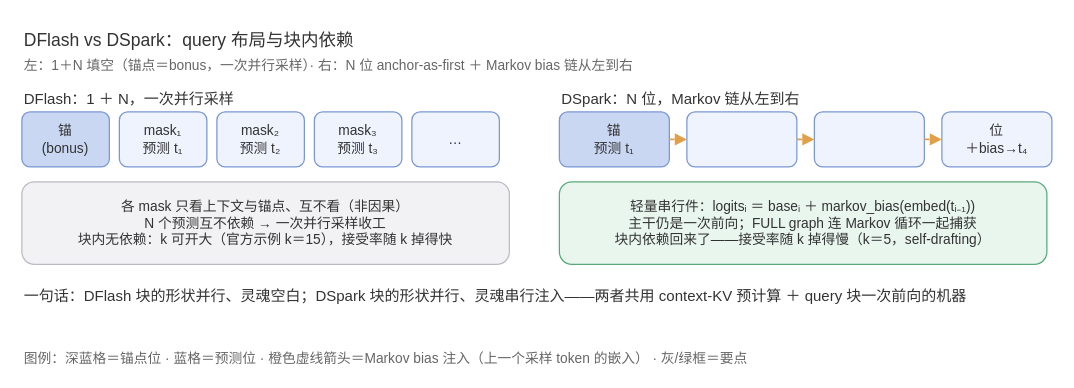
Some shapes in this 1074 by 388 pixel diagram are drawn without their labels. The centre of each missing label's shape, as x and y in pixels:
"位 ＋bias→t₂" goes at point (741, 139).
"位 ＋bias→t₃" goes at point (868, 139).
